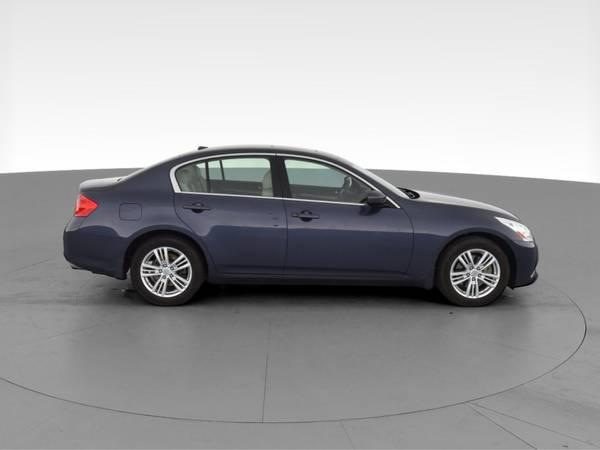Front_Bumper: (509, 243, 541, 294)
Front_Fender: (399, 201, 519, 287)
Front_Right_Door: (282, 201, 414, 283)
Front_Right_Window: (277, 156, 401, 210)
Rear_Bumper: (63, 214, 124, 280)
Rear_Fender: (79, 188, 191, 242)
Rear_Right_Door: (173, 193, 289, 282)
Rear_Right_Window: (172, 155, 282, 201)
Right_Headlight: (499, 217, 537, 246)
Right_Taillight: (70, 193, 99, 221)
Roof: (118, 144, 404, 205)
Wheel: (129, 237, 203, 309), (442, 239, 512, 306)
